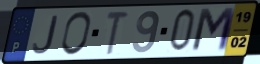0: (167, 7, 198, 56)
9: (131, 9, 161, 55)
J: (31, 14, 59, 56)
M: (189, 6, 238, 55)
O: (59, 10, 93, 58)
T: (104, 10, 131, 57)
